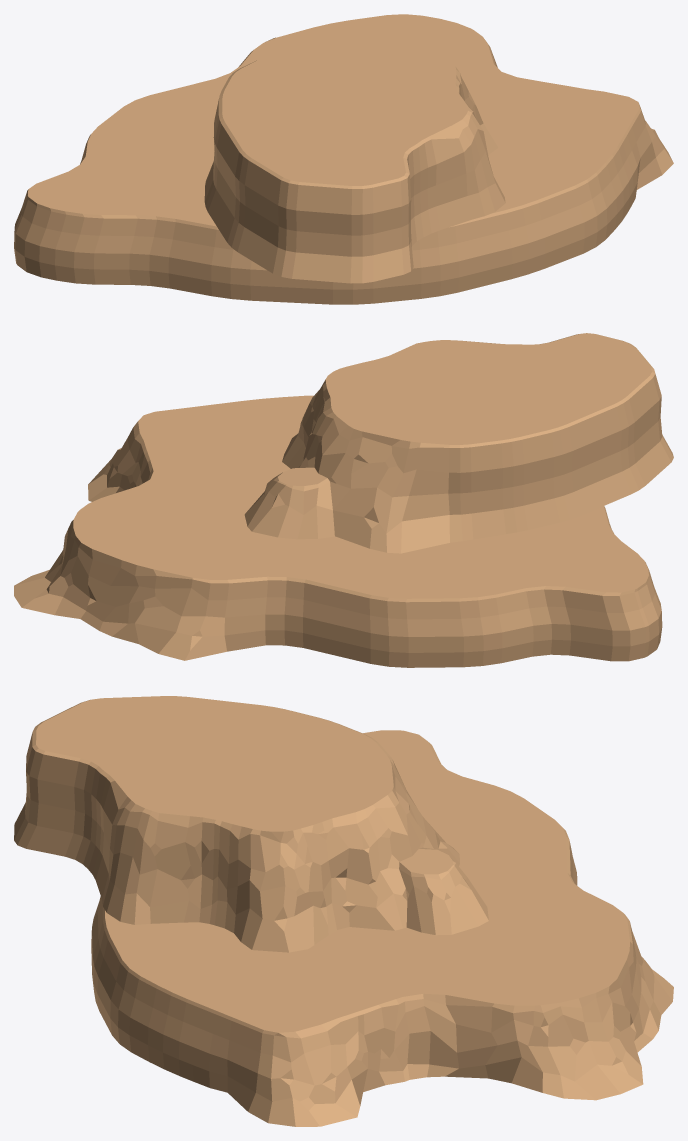
Rendered from ground.glb.
3 renders of one model, top to bottom at view 1: azimuth 30°, elevation 25°; view 2: azimuth 150°, elevation 25°; view 3: azimuth 270°, elevation 25°, orthographic. The views are drawn at different scales.
Visible parts, largest first — view 1: b.001, Vert.015; view 2: b.001, Vert.015; view 3: b.001, Vert.015.
Boxes of the visible parts, x1,y1,x2,y2 form: b.001: (14,14,673,304); Vert.015: (204,40,505,283); b.001: (14,395,662,667); Vert.015: (244,333,673,553); b.001: (91,730,673,1126); Vert.015: (14,696,488,952).
Bounding box in the file's own units: 18.05 × 4.38 × 15.25.
